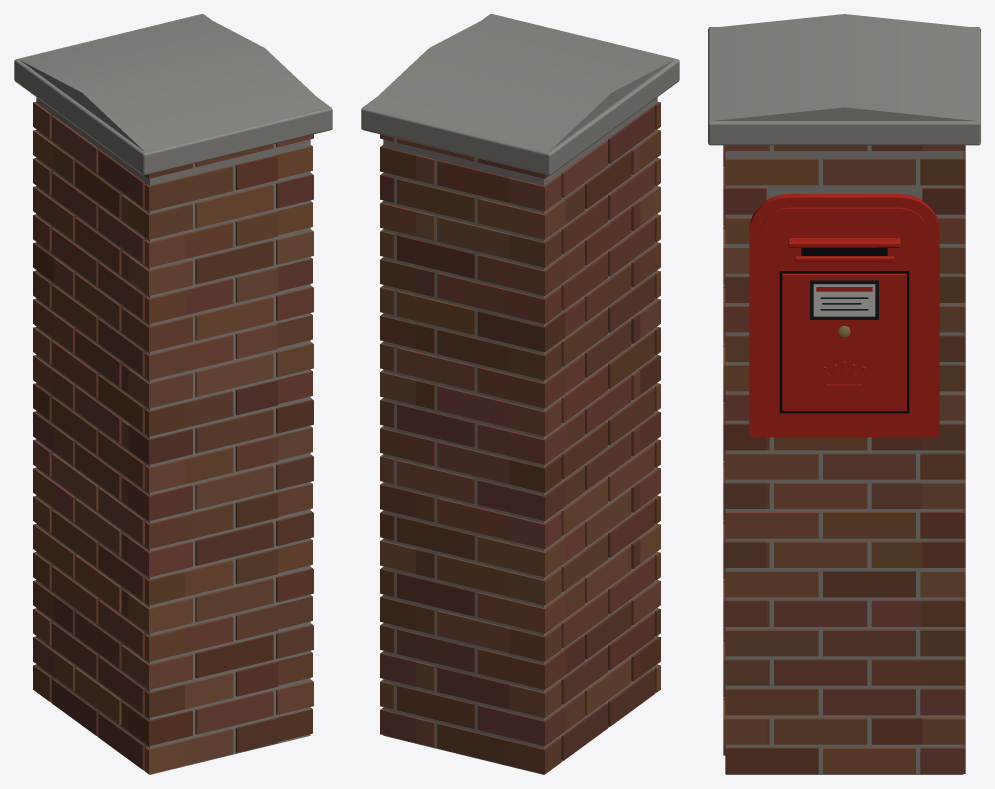
File: SM_Prop_post_box_3.glb
3 renders of one model, left to right at view 1: azimuth 30°, elevation 25°; view 2: azimuth 150°, elevation 25°; view 3: azimuth 270°, elevation 25°, orthographic. The views are drawn at different scales.
Parts seen in each view (by area): view 1: SM_Prop_post_box_3; view 2: SM_Prop_post_box_3; view 3: SM_Prop_post_box_3.
Boxes of the visible parts, box(x1,y1,x2,y2) form: SM_Prop_post_box_3: box(14, 14, 332, 774); SM_Prop_post_box_3: box(361, 14, 679, 774); SM_Prop_post_box_3: box(708, 14, 980, 774).
Bounding box in the file's own units: 0.547 × 1.72 × 0.63.
